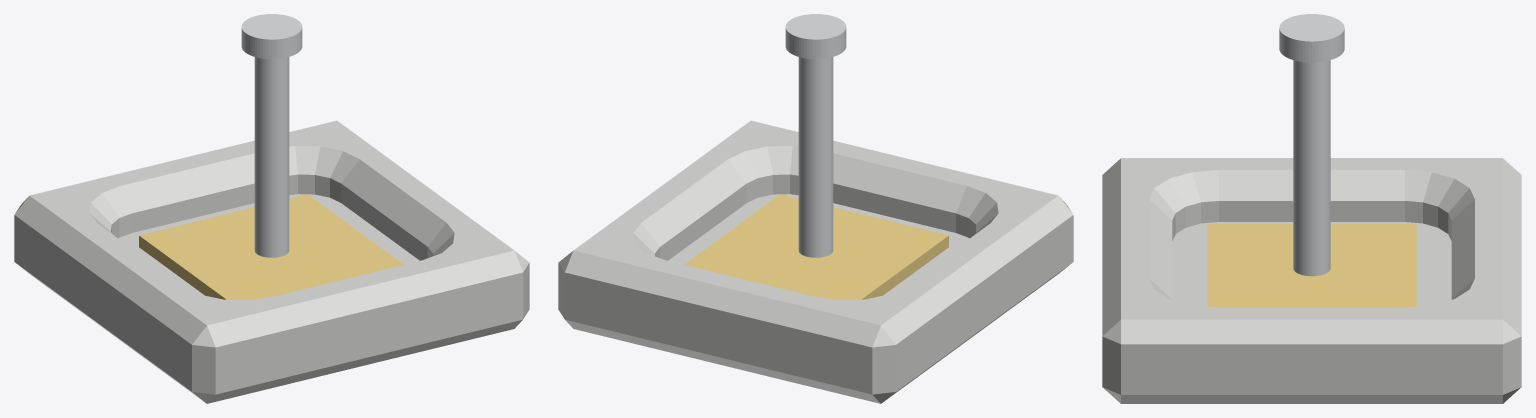
Rendered from ax_power_16_omni_antenna.glb.
The picture shows the model from 3 angles, left to right: view 1: azimuth 30°, elevation 25°; view 2: azimuth 150°, elevation 25°; view 3: azimuth 270°, elevation 25°; orthographic projection. The views are drawn at different scales.
Visible parts, largest first — view 1: patch_pocket, patch_element, stub; view 2: patch_pocket, patch_element, stub; view 3: patch_pocket, patch_element, stub.
Part boxes in pixels (x1=…): patch_pocket: x1=14, y1=120, x2=529, y2=403; patch_element: x1=139, y1=194, x2=403, y2=300; stub: x1=241, y1=14, x2=302, y2=257; patch_pocket: x1=558, y1=120, x2=1073, y2=403; patch_element: x1=684, y1=194, x2=948, y2=300; stub: x1=785, y1=14, x2=846, y2=257; patch_pocket: x1=1102, y1=158, x2=1521, y2=403; patch_element: x1=1207, y1=224, x2=1416, y2=307; stub: x1=1279, y1=14, x2=1344, y2=276.
Size of the model in its own units: 0.18 by 0.14 by 0.18.
